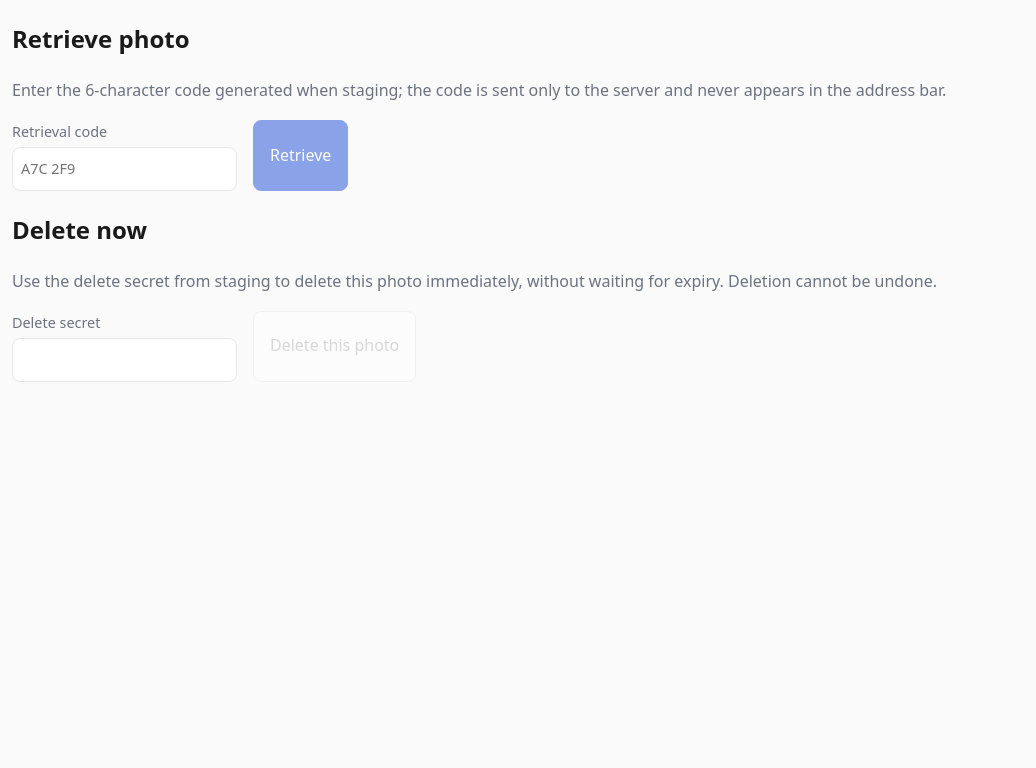
it: RetrievePage › revokes the preview after a successful delete
Type "A7C2F9" into the field labelled "Retrieval code" at x=124, y=169, box [12,147,237,191]
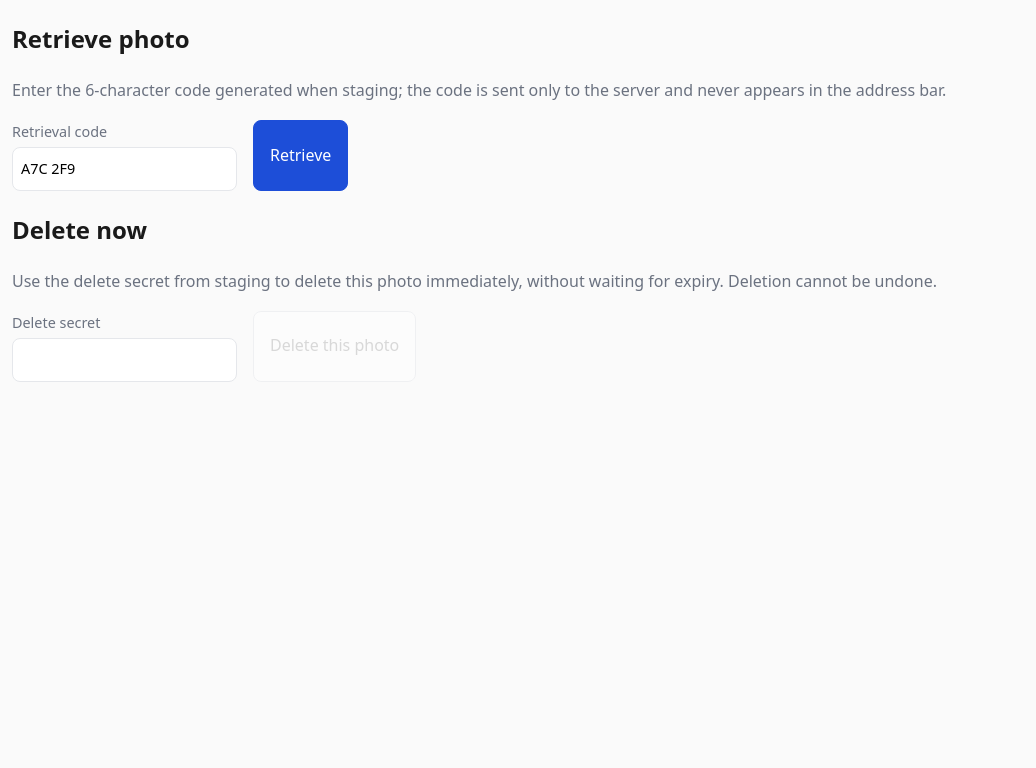
Click the button "Retrieve" at x=301, y=155, box [253,120,348,191]
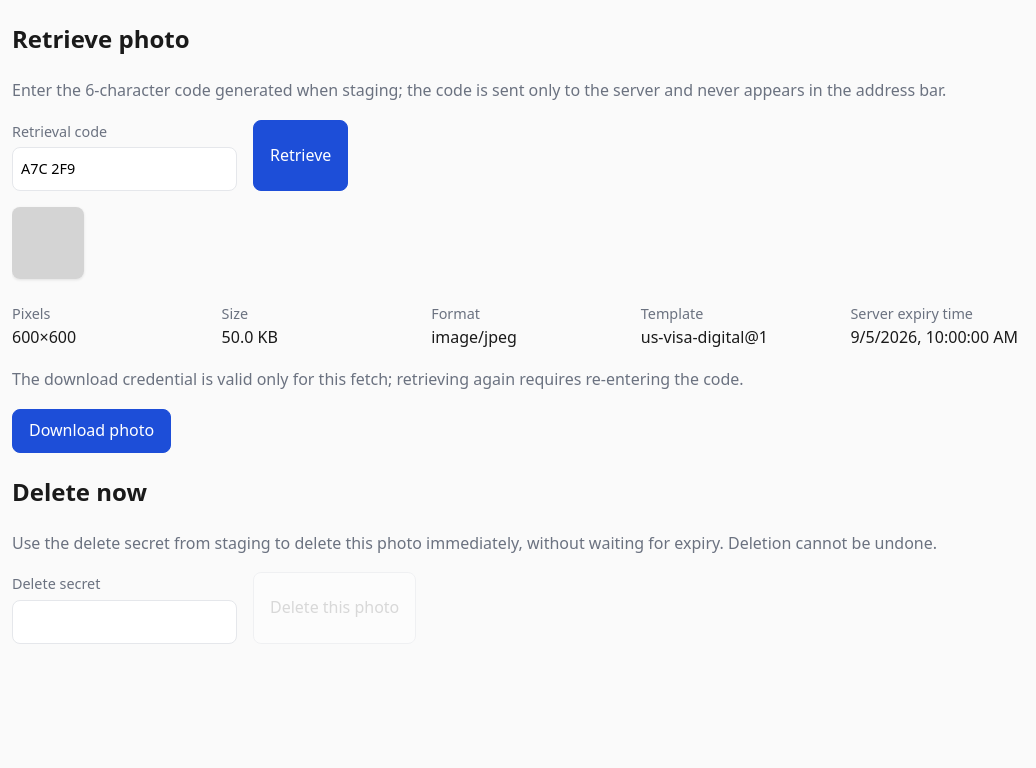
Result: the text "600×600" is shown at [12,326,76,348]
Type "secret-value-123456" into the field labelled "Delete secret" at x=124, y=622, box [12,600,237,644]
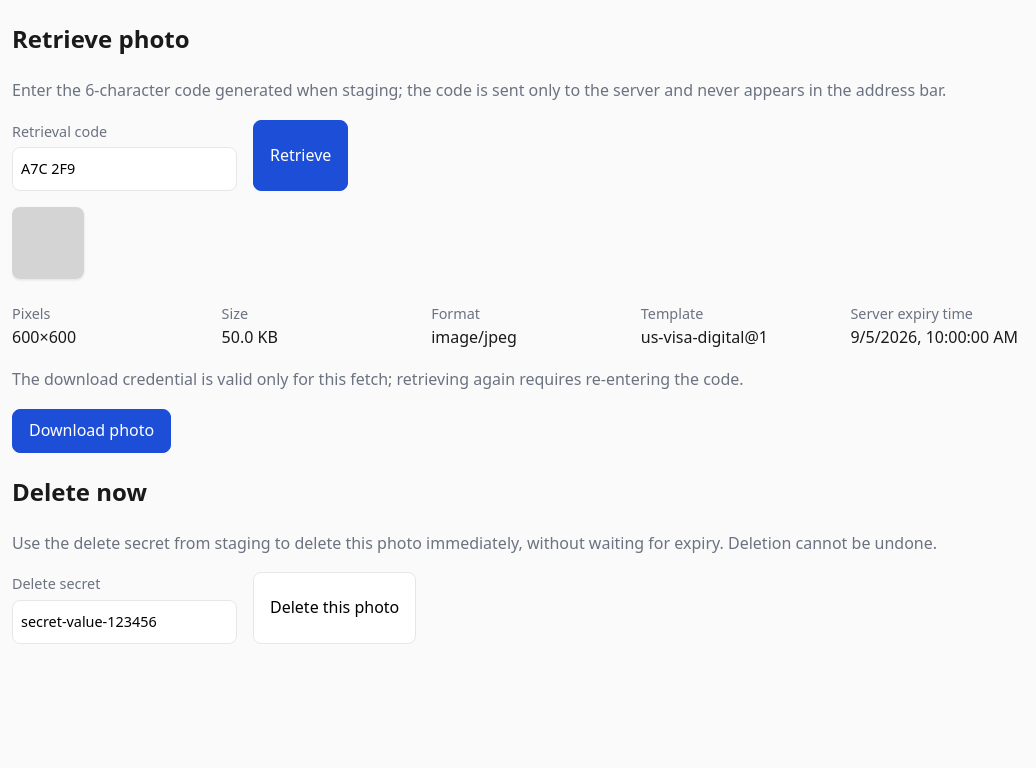
Click the button "Delete this photo" at x=335, y=608, box [253,572,416,644]
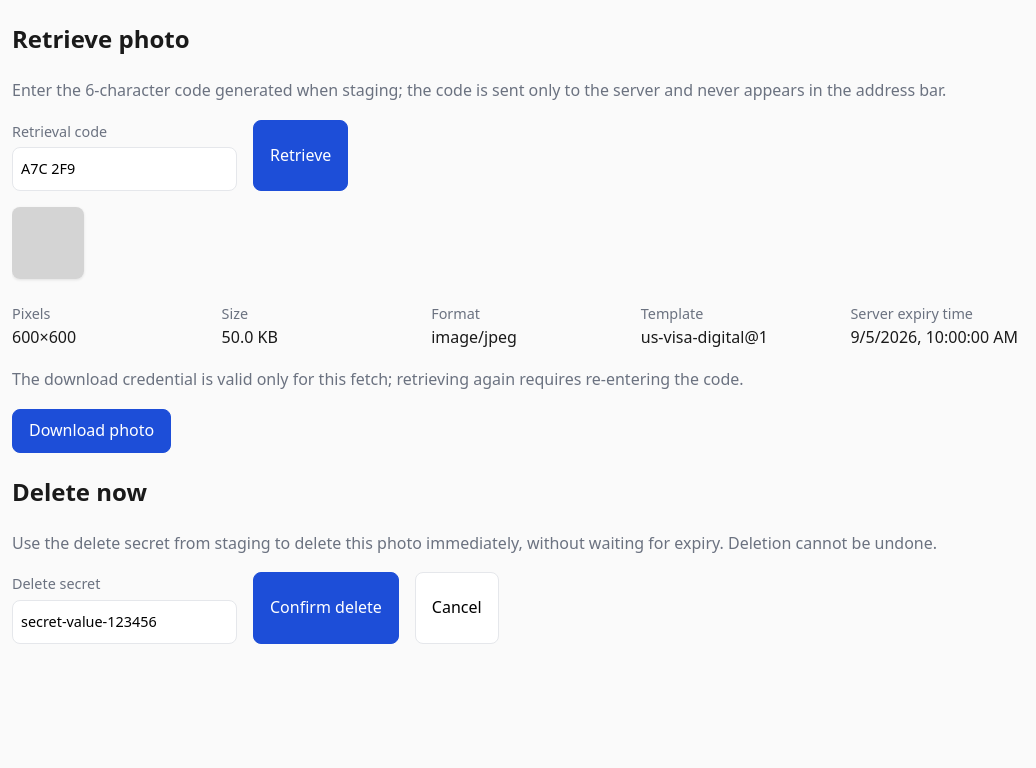
Click the button "Confirm delete" at x=326, y=608, box [253,572,399,644]
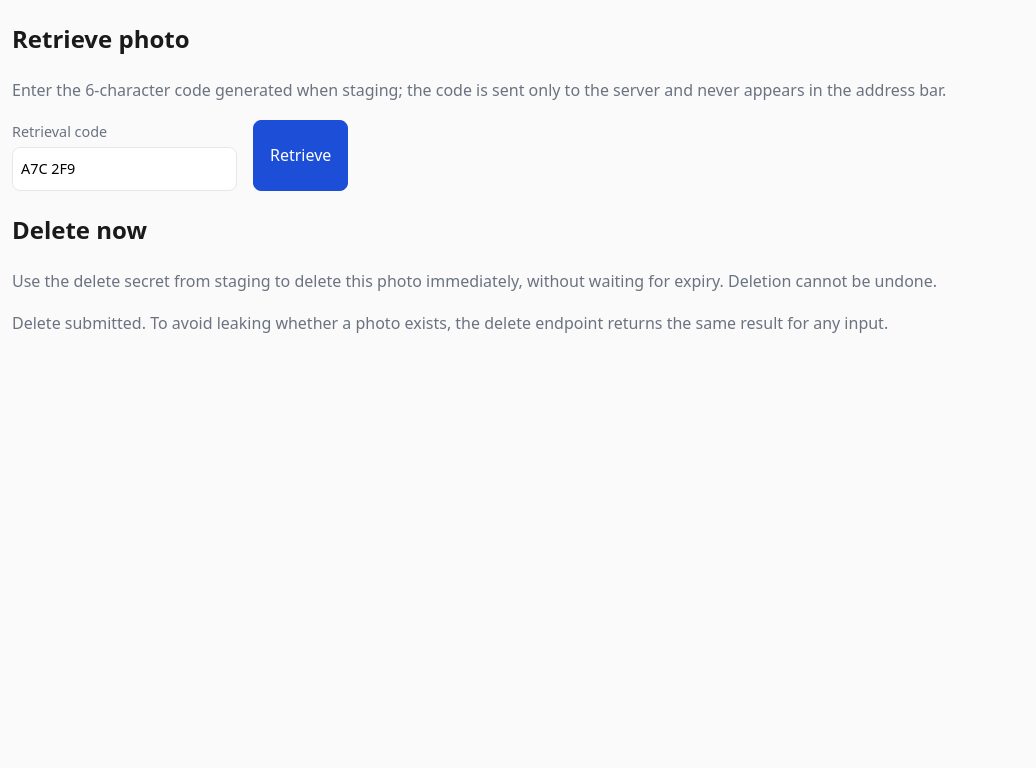
Result: the message is shown at [12,311,1035,336]
